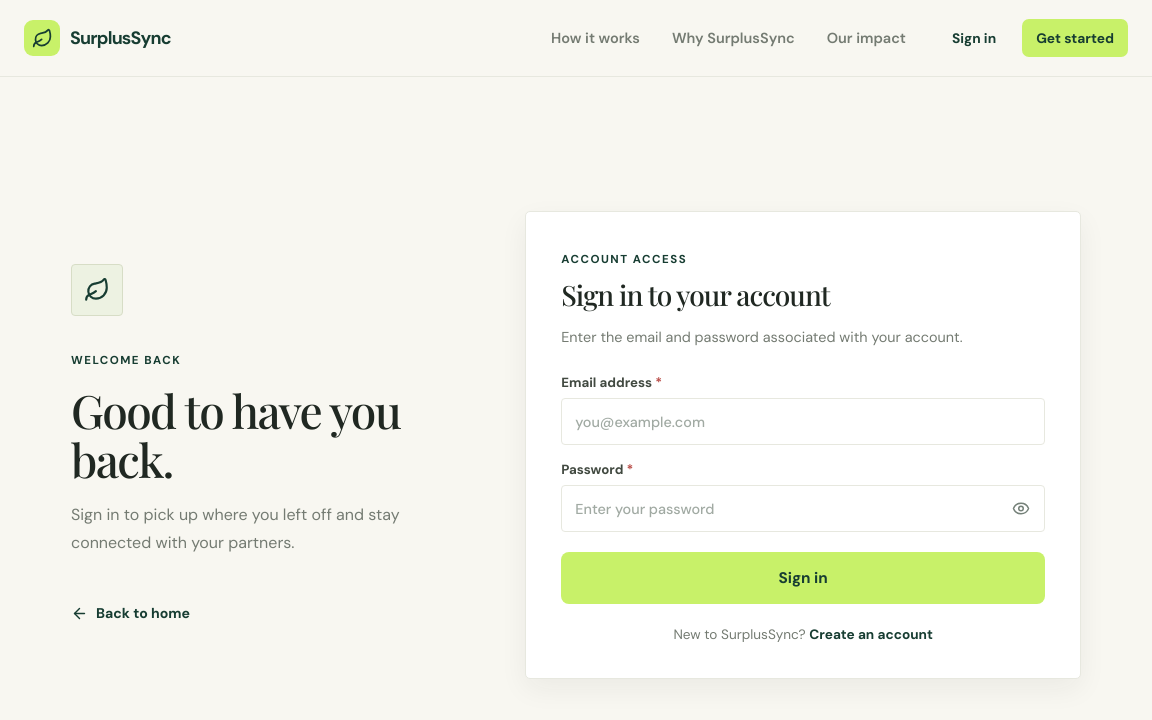
Test: authentication form › shows backend errors without losing the form values
Type "missing@example.test" into the field labelled "Email address *" at (803, 422), box [561,398,1045,445]
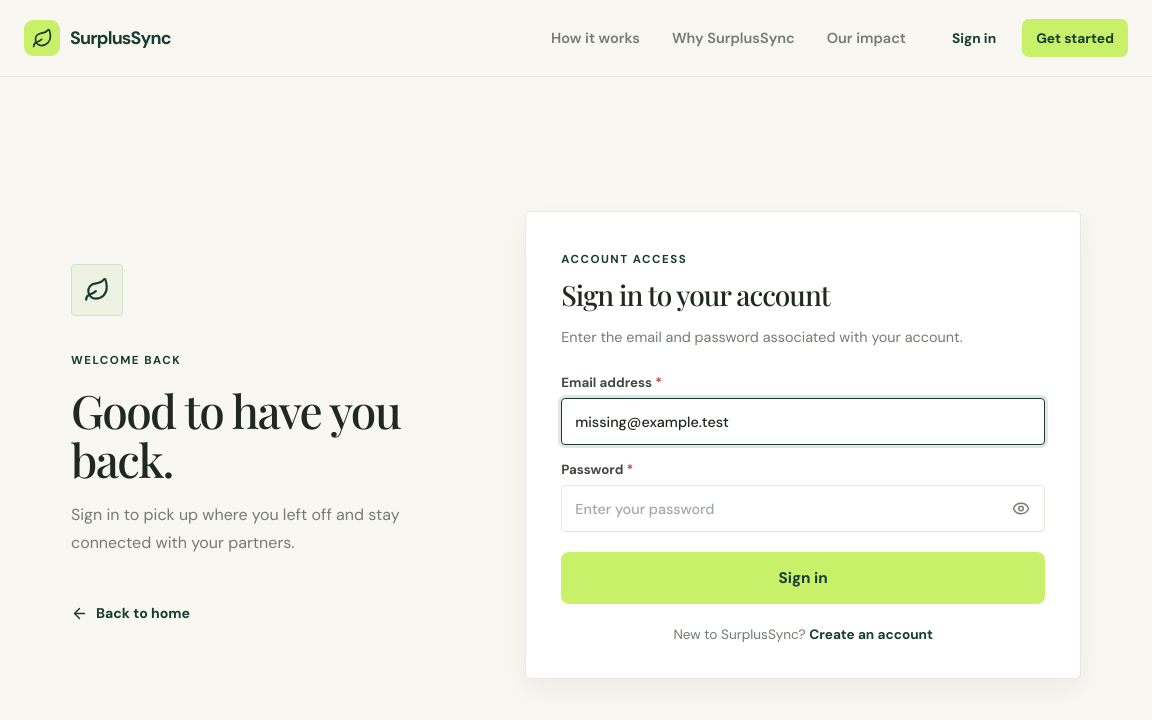
Type "wrong-password" into the password field labelled "Password *" at (803, 508), box [561,485,1045,532]
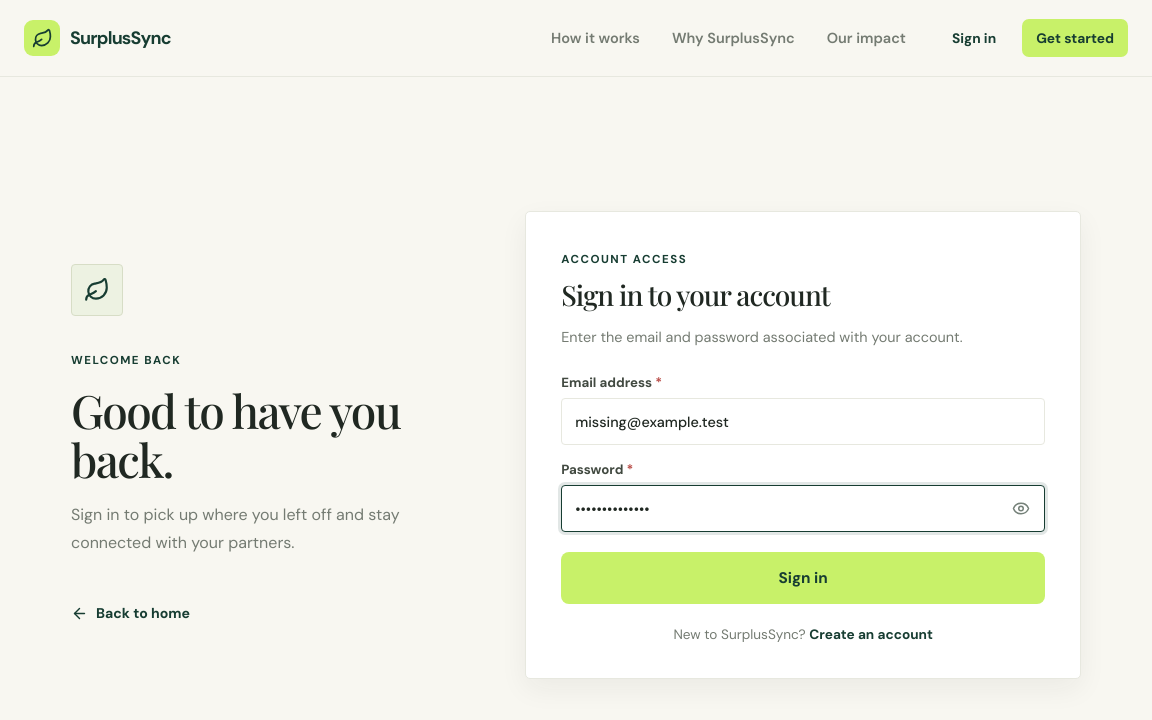
Click the button "Sign in" at (803, 578), box [561,552,1045,604]
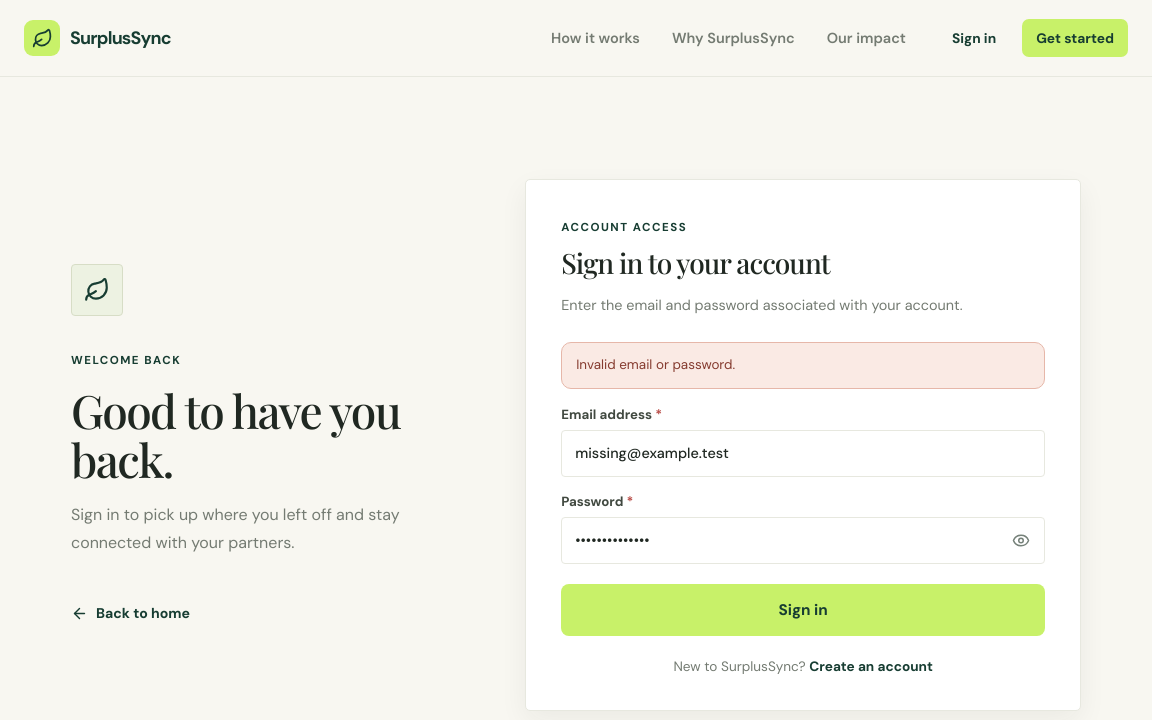
Expected: the message reads "Invalid email or password.", [576,356,735,373]
